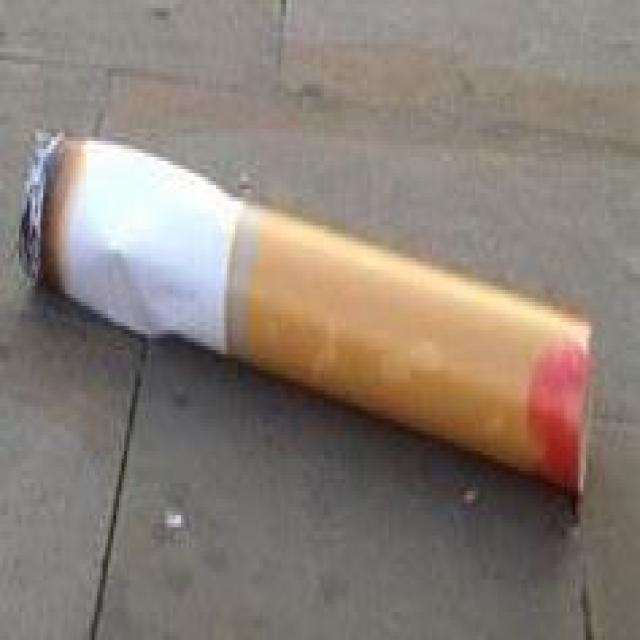-Other waste - cigarette butt-: (19, 128, 593, 500)
